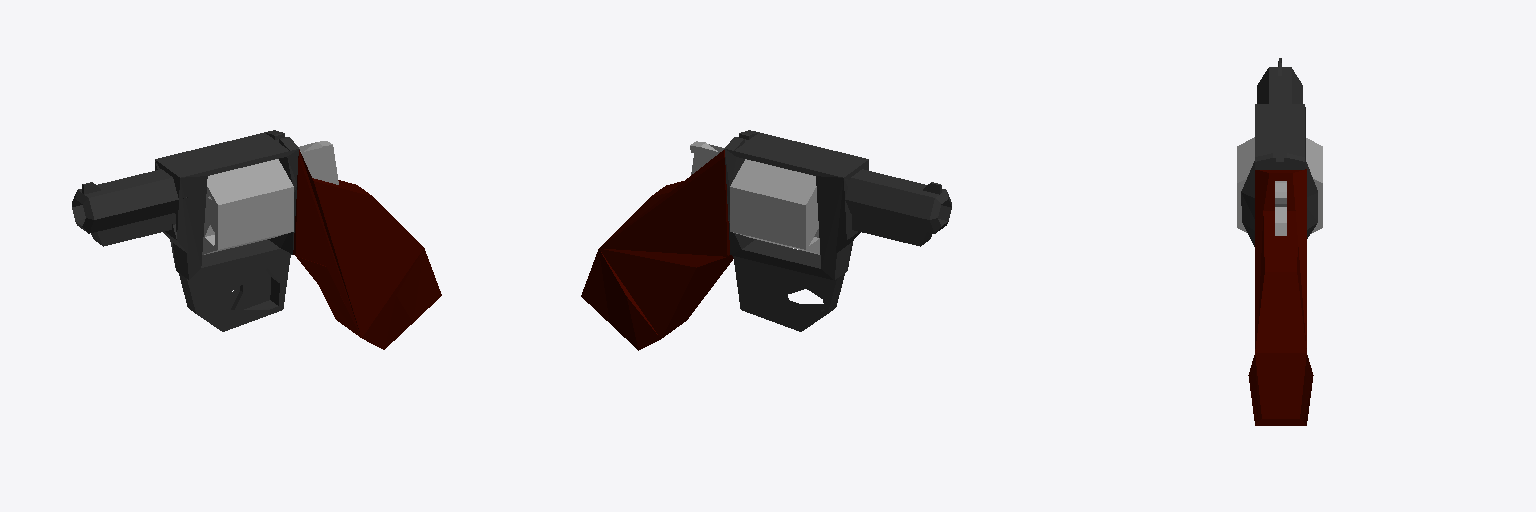
The model's file is ColoredSnubNose.obj.
The picture shows the model from 3 angles: view 1: azimuth 30°, elevation 25°; view 2: azimuth 150°, elevation 25°; view 3: azimuth 270°, elevation 25°; orthographic projection.
Visible parts, largest first — view 1: Grip_Cube.001, Receiver_Cube, Cylinder_Cube.003, Barrel_Cylinder.001, Hammer_Cube.002; view 2: Grip_Cube.001, Receiver_Cube, Cylinder_Cube.003, Barrel_Cylinder.001, Hammer_Cube.002; view 3: Grip_Cube.001, Receiver_Cube, Cylinder_Cube.003, Barrel_Cylinder.001, Hammer_Cube.002.
Part boxes in pixels (x1,y1,x2,y2): Grip_Cube.001: (293, 150, 441, 349); Receiver_Cube: (155, 130, 299, 331); Cylinder_Cube.003: (202, 159, 293, 254); Barrel_Cylinder.001: (72, 169, 187, 246); Hammer_Cube.002: (299, 141, 338, 184); Grip_Cube.001: (581, 150, 733, 350); Receiver_Cube: (724, 130, 868, 331); Cylinder_Cube.003: (730, 159, 819, 254); Barrel_Cylinder.001: (844, 169, 951, 246); Hammer_Cube.002: (690, 141, 724, 174); Grip_Cube.001: (1248, 169, 1313, 425); Receiver_Cube: (1241, 104, 1317, 246); Cylinder_Cube.003: (1237, 137, 1322, 233); Barrel_Cylinder.001: (1257, 58, 1302, 103); Hammer_Cube.002: (1275, 181, 1286, 235).
Bounding box in the file's own units: 6.8 × 4.16 × 1.42.